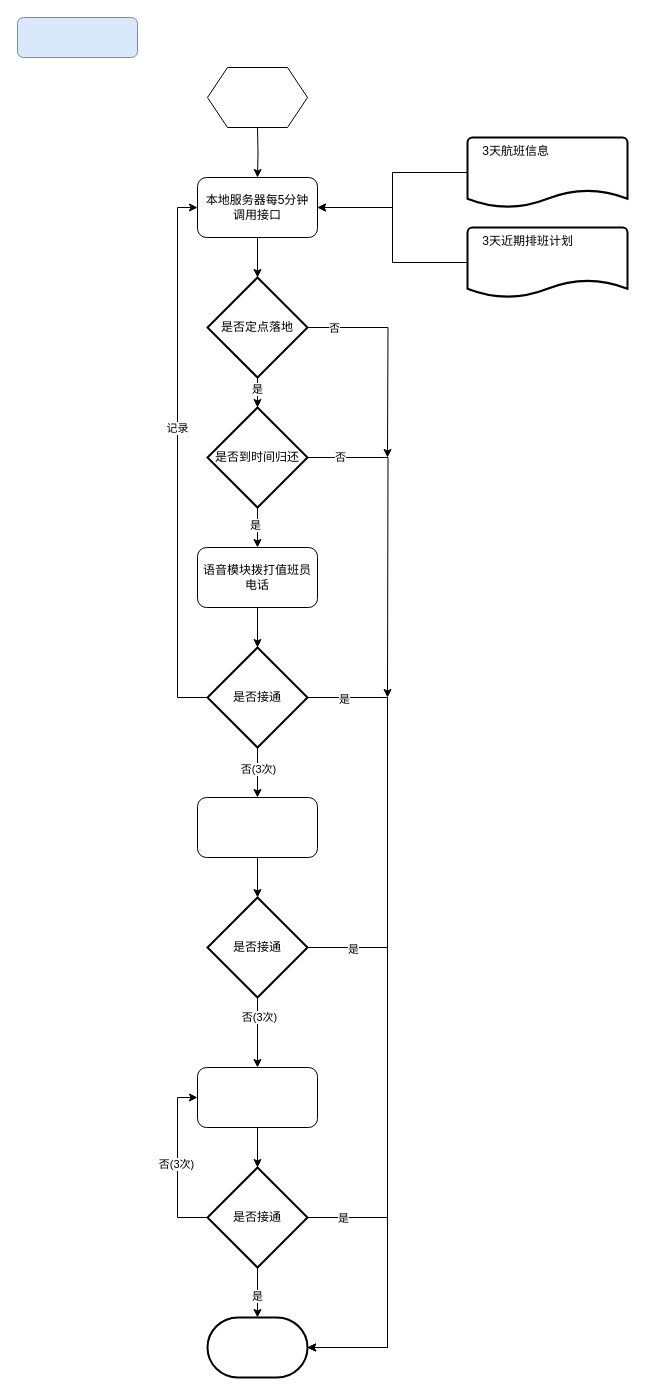
This 646x1396 diagram has some shape labels left out. The shapes that lost their labels are listed below. From the top down, each one's box as (x1, y1, x2, y2) in pixels, then its label:
(16, 16, 138, 58): 归还提醒
(206, 66, 308, 128): 开始
(196, 796, 318, 858): 拨打队长电话
(196, 1066, 318, 1128): 拨打应急人员电话
(206, 1316, 308, 1378): 结束
